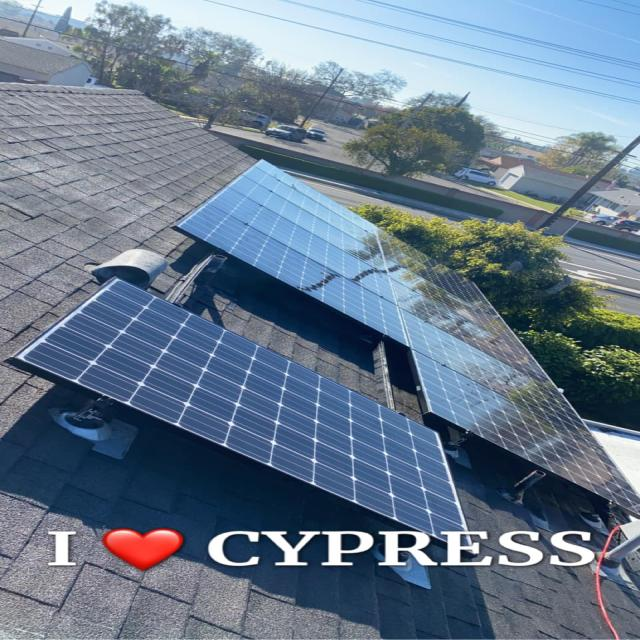clean-solar-panel: (177, 161, 639, 512), (12, 279, 467, 538)
